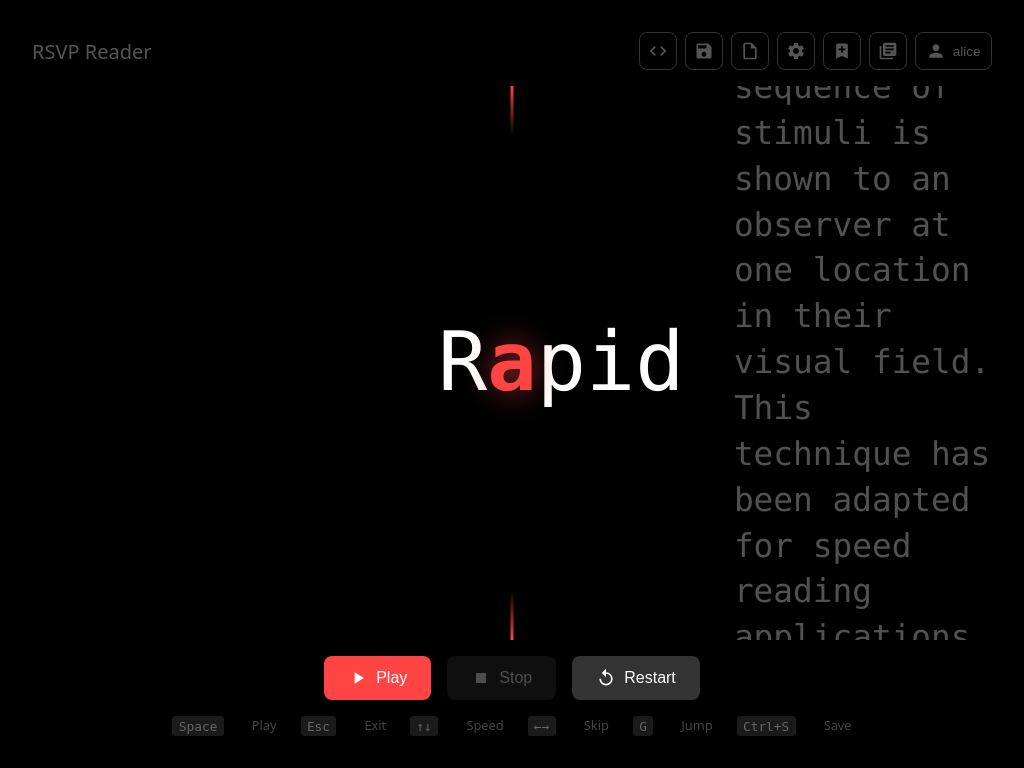
it: Restart › asks before leaving saved progress behind
This screenshot has width=1024, height=768.
Click the button named "Library" at (888,51), box [869,32,907,70]
Wait 350 ms
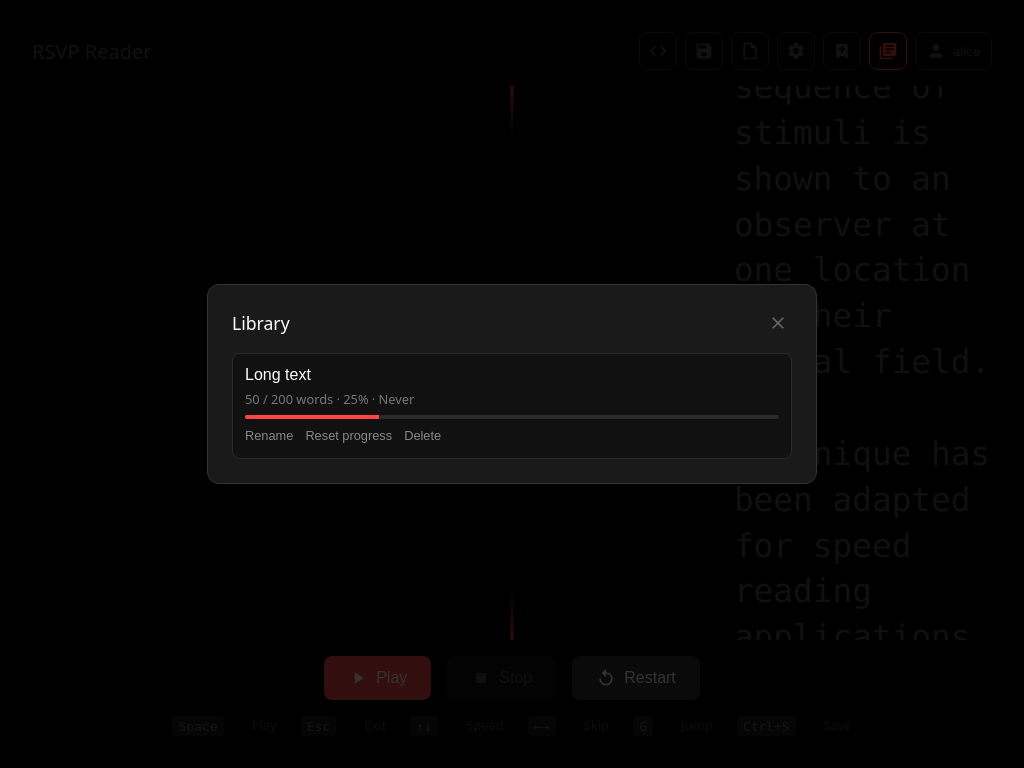
Click the button "Long text" at (278,374), box [245,366,779,384]
Wait 350 ms
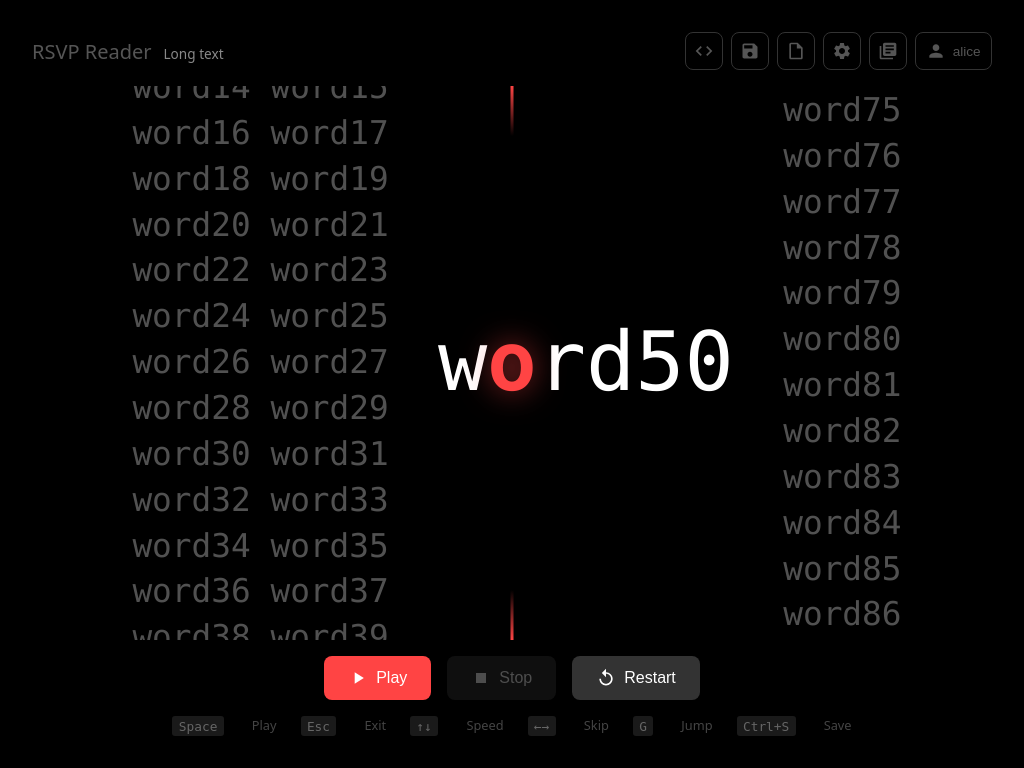
Check: the text titled "Open from your library" is shown, box [164,44,224,62]
Click the button titled "Restart" at (636,678), box [572,656,700,700]
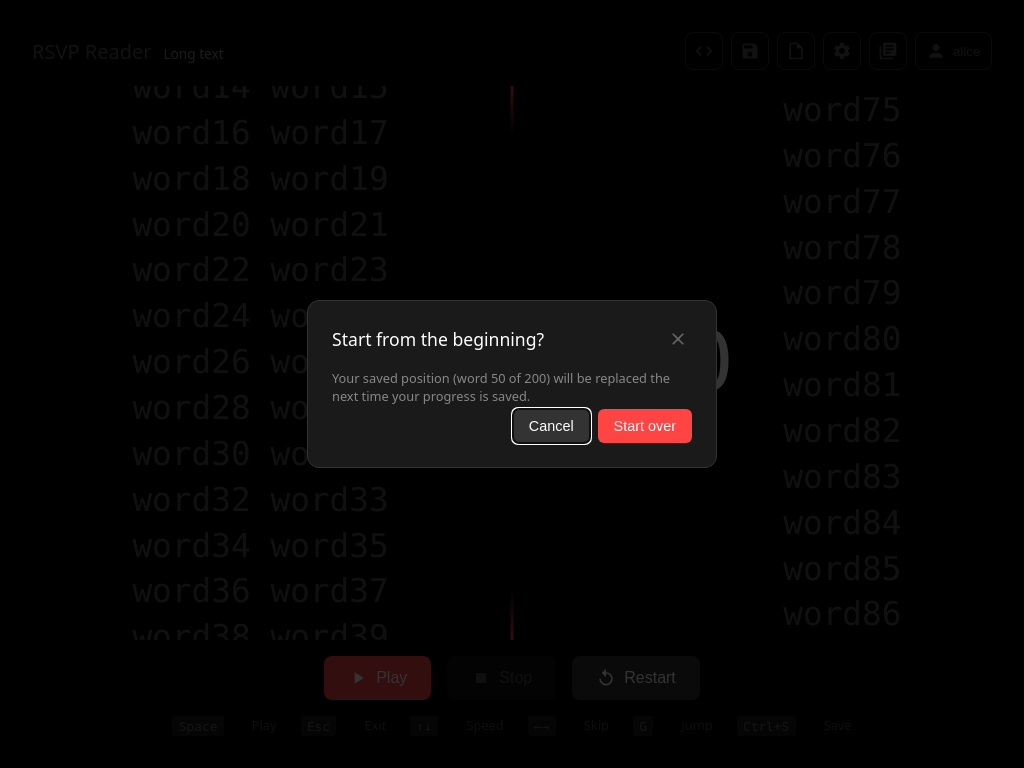
Check: the dialog "Start from the beginning?" shows "Your saved position (word 50 of 200)", box [332,369,670,405]
